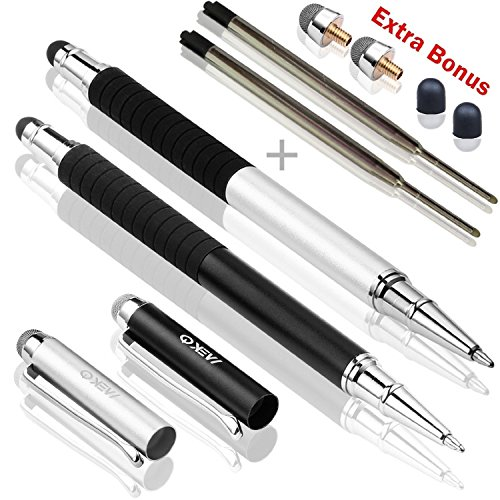Boligrafo: (11, 111, 471, 454), (37, 37, 500, 371)
